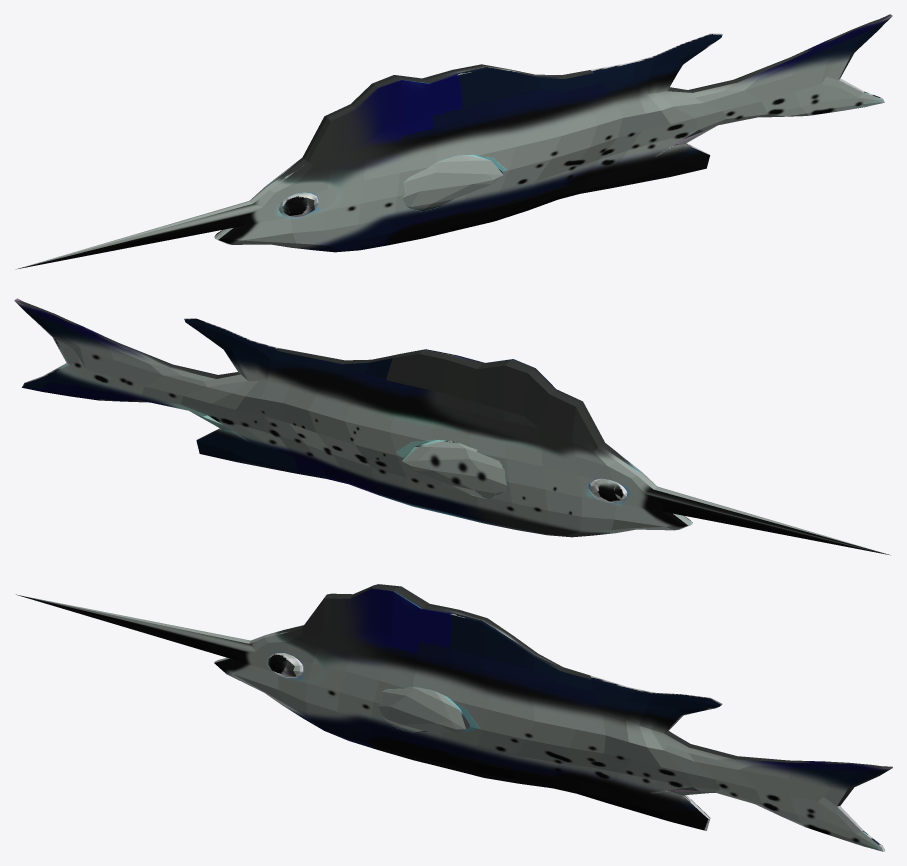
Rendered from Sword.fbx.
3 renders of one model, top to bottom at view 1: azimuth 30°, elevation 25°; view 2: azimuth 150°, elevation 25°; view 3: azimuth 330°, elevation 25°, orthographic.
Parts seen in each view (by area): view 1: Plane.004; view 2: Plane.004; view 3: Plane.004.
Boxes of the visible parts, bbox=[...] form: Plane.004: bbox=[15, 14, 892, 269]; Plane.004: bbox=[14, 298, 890, 555]; Plane.004: bbox=[16, 584, 892, 851].
Size of the model in its own units: 764 by 140 by 59.48.
